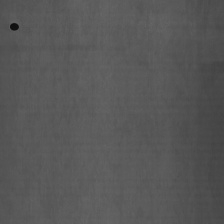punching_hole: (8, 21, 20, 31)
